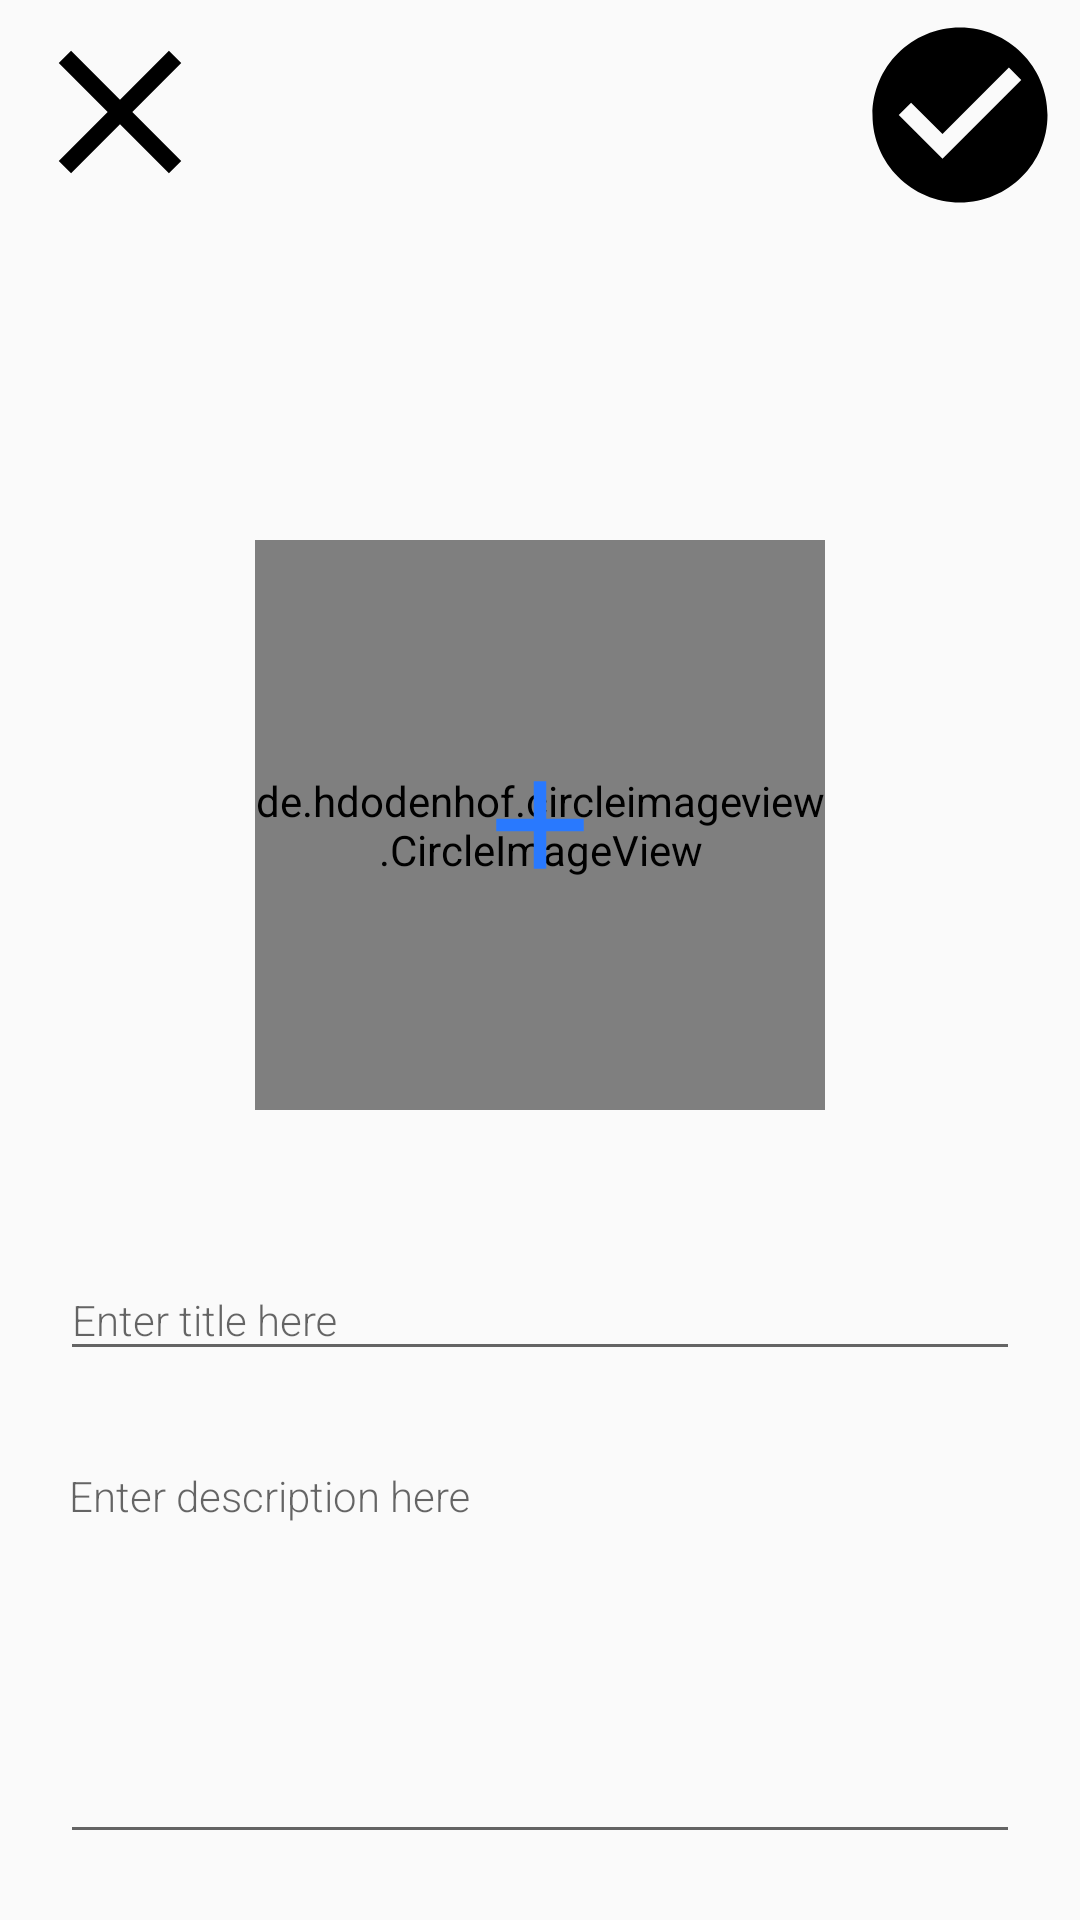

Point at icon controls on the screen. Image size 1080px×1920px, points as (x=x, y=y).
check circle: (x=960, y=115)
close: (x=120, y=112)
